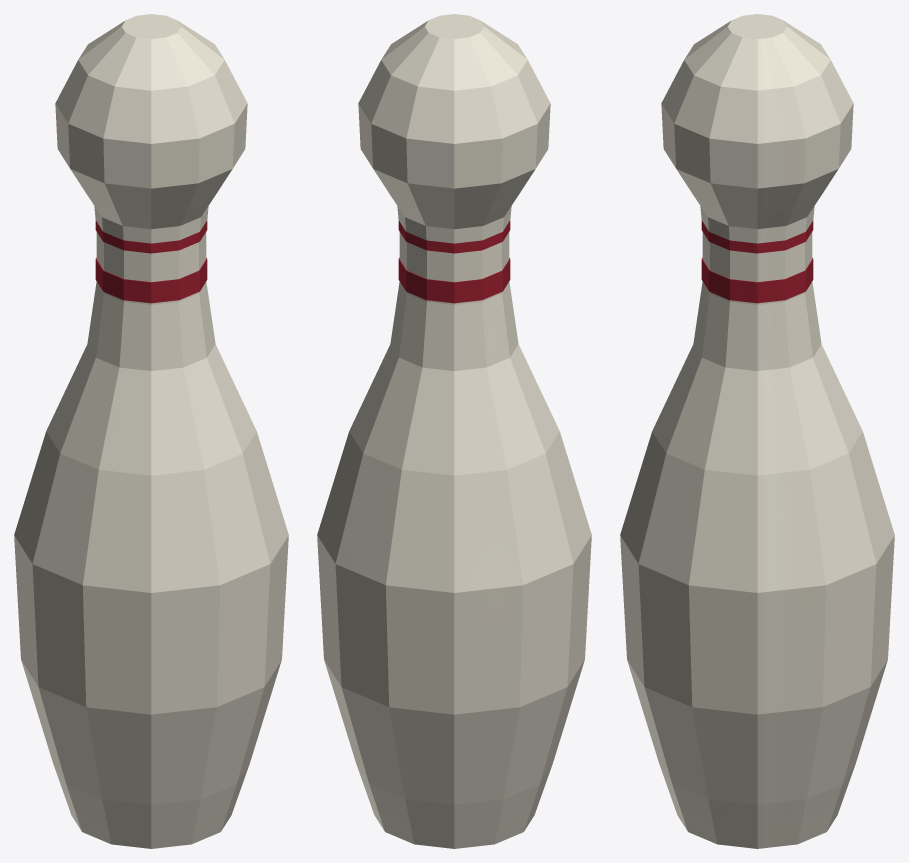
File: bowling_pin.glb
3 views of the same model, side by side, from view 1: azimuth 30°, elevation 25°; view 2: azimuth 150°, elevation 25°; view 3: azimuth 270°, elevation 25° (orthographic).
Visible parts, largest first — view 1: arcade_bowling_pin; view 2: arcade_bowling_pin; view 3: arcade_bowling_pin.
Boxes of the visible parts, <box> form: arcade_bowling_pin: <box>14,14,288,848</box>; arcade_bowling_pin: <box>317,14,591,848</box>; arcade_bowling_pin: <box>620,14,894,848</box>.
Bounding box in the file's own units: 0.12 × 0.38 × 0.12.
Materials: 1 (1 with a texture image).
